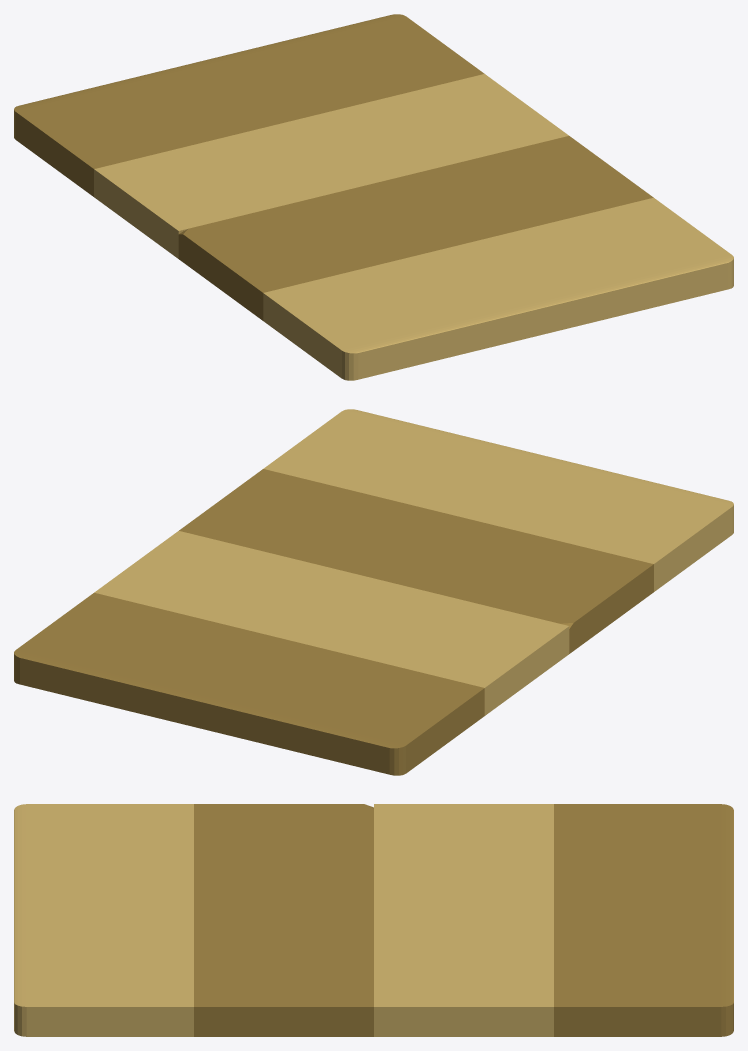
Rendered from cutting_board.glb.
3 views of the same model, one above another, from view 1: azimuth 30°, elevation 25°; view 2: azimuth 150°, elevation 25°; view 3: azimuth 270°, elevation 25° (orthographic). The views are drawn at different scales.
Visible parts, largest first — view 1: Cube.003; view 2: Cube.003; view 3: Cube.003.
Part boxes in pixels (x1,y1,x2,y2): Cube.003: [14, 14, 733, 380]; Cube.003: [14, 409, 733, 775]; Cube.003: [14, 804, 733, 1036].
Bounding box in the file's own units: 0.3048 × 0.021 × 0.4572.
